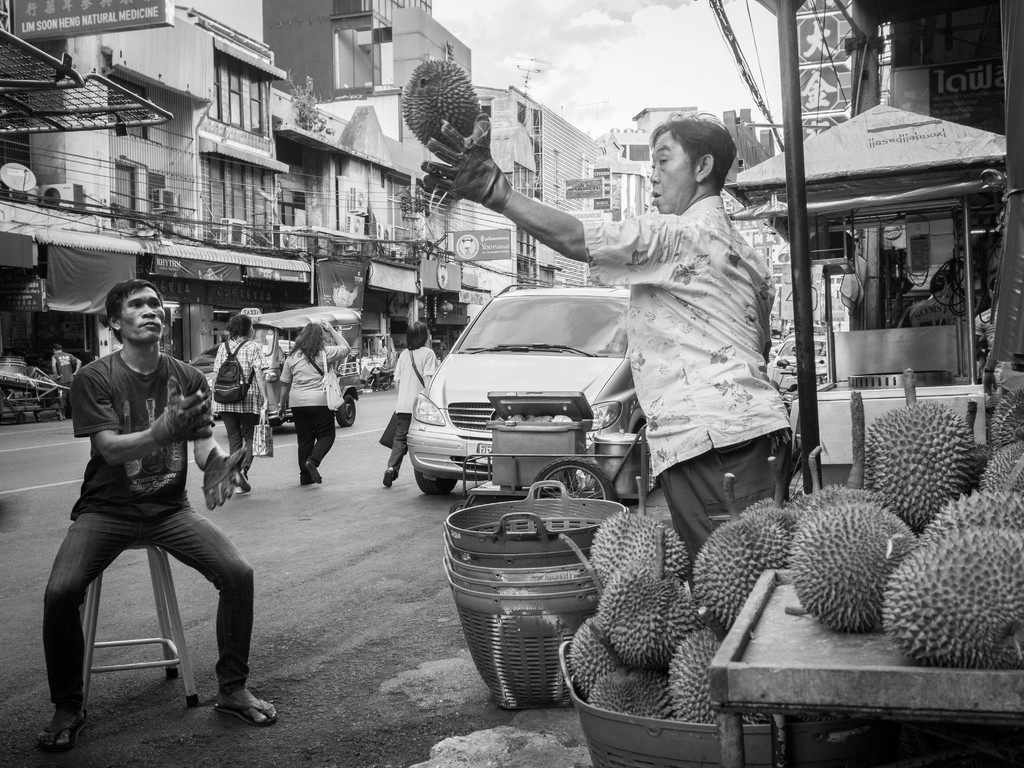Car: (395, 277, 649, 492)
